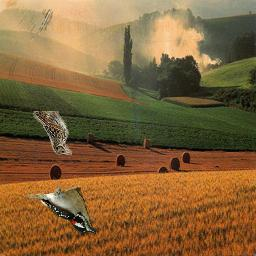Sparrow: (34, 111, 73, 155)
Woodpecker: (26, 185, 96, 235)
